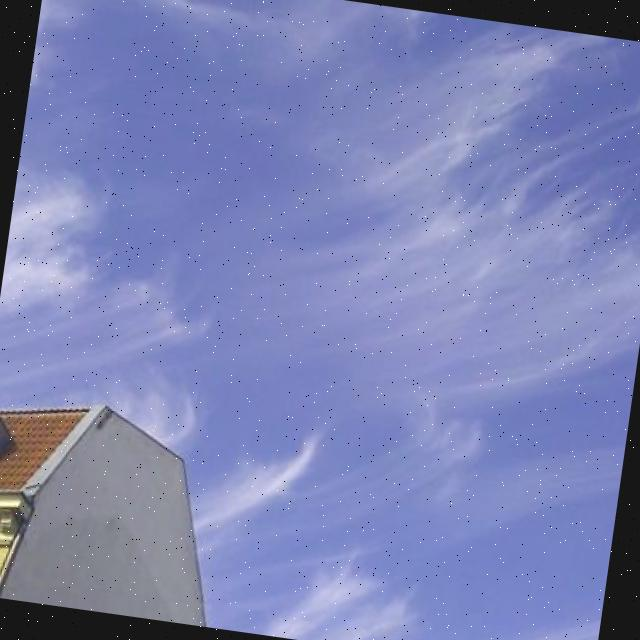Ci: (238, 1, 640, 493)
